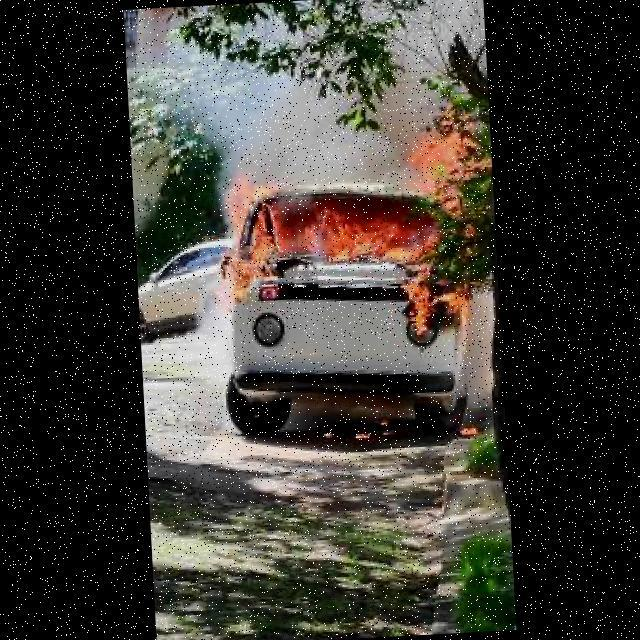Fire: (222, 160, 441, 301), (408, 111, 492, 201), (404, 271, 473, 340), (460, 426, 478, 435), (354, 434, 370, 439)
